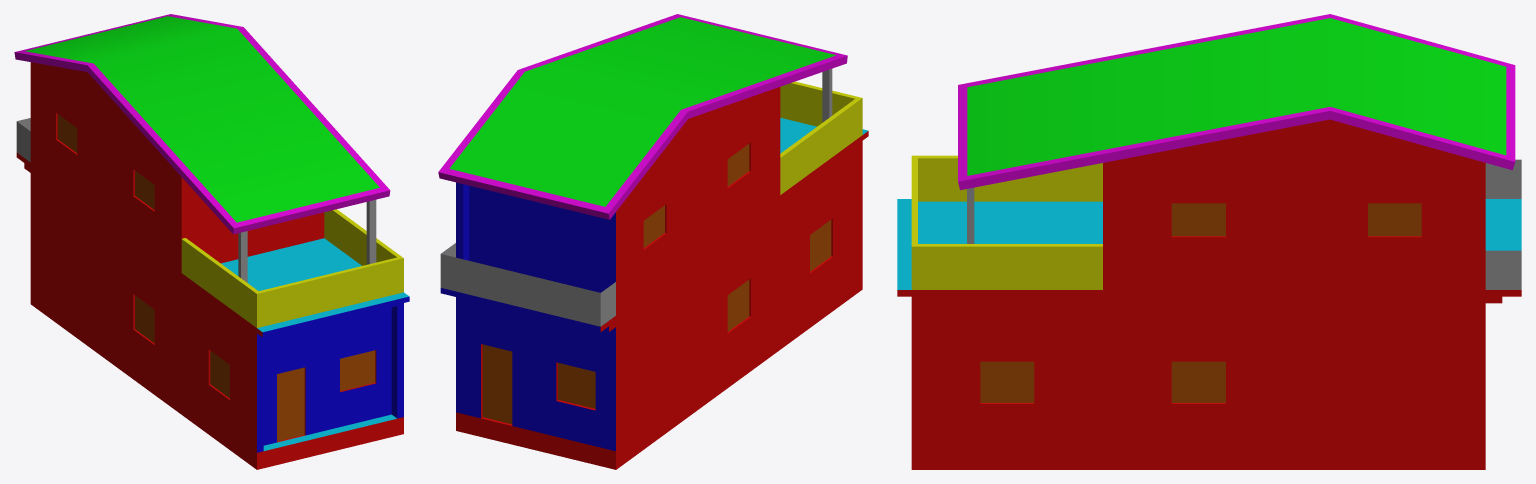
File: old_build04_01.FBX
3 renders of one model, left to right at view 1: azimuth 30°, elevation 25°; view 2: azimuth 150°, elevation 25°; view 3: azimuth 270°, elevation 25°, orthographic. The views are drawn at different scales.
Visible parts, largest first — view 1: Main, Metal_fence; view 2: Main, Metal_fence; view 3: Main, Metal_fence.
Part boxes in pixels (x1,y1,x2,y2): Main: [14, 14, 409, 469]; Metal_fence: [16, 118, 376, 282]; Main: [438, 14, 868, 469]; Metal_fence: [440, 69, 832, 326]; Main: [897, 14, 1521, 469]; Metal_fence: [967, 159, 1521, 289].
Bounding box in the file's own units: 4.79 × 13.05 × 8.35.
